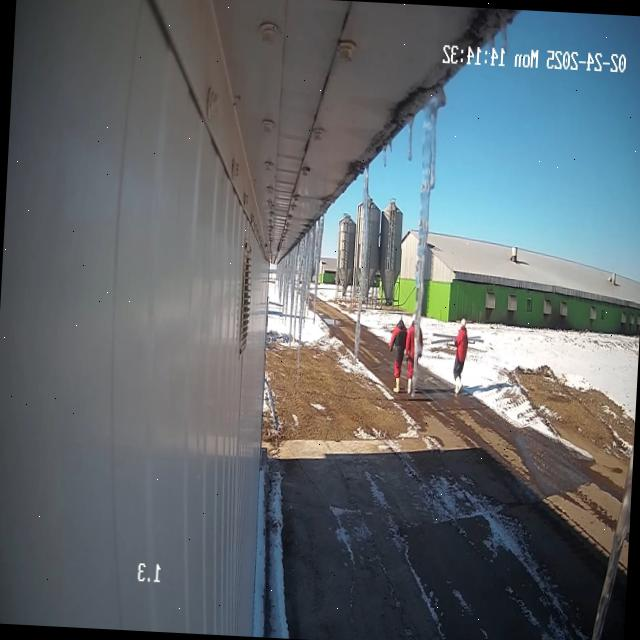Red uniform: (453, 318, 468, 396), (389, 318, 407, 379), (406, 320, 415, 394), (419, 328, 423, 347)
